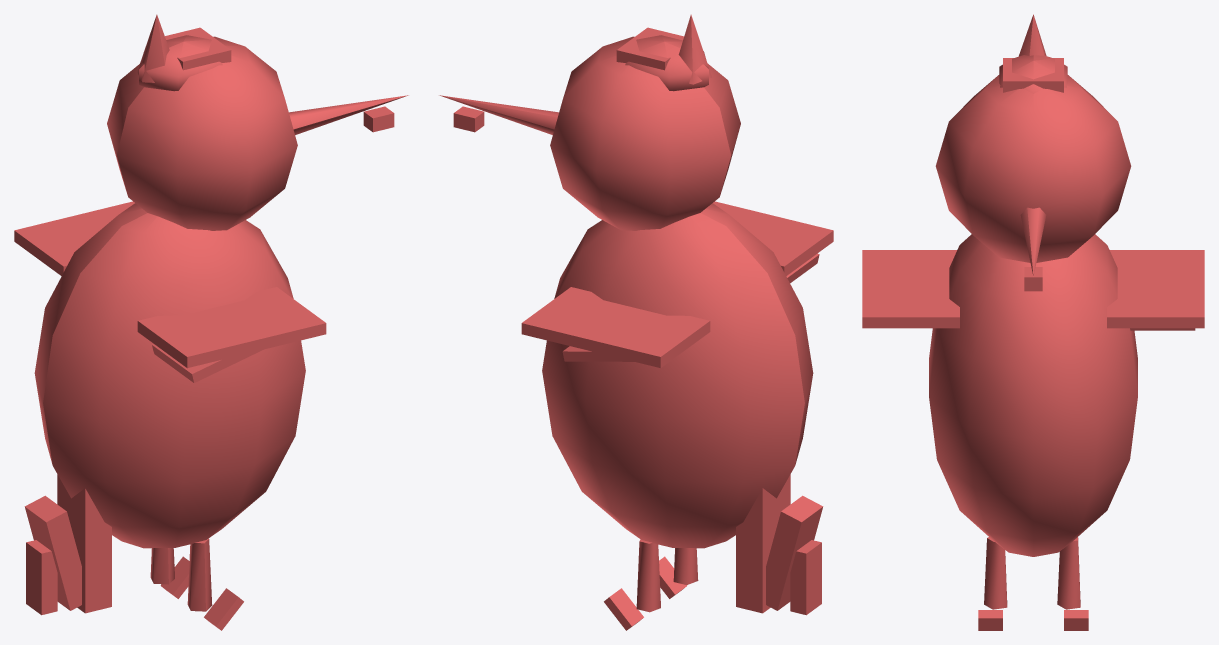
Rendered from woodpecker.glb.
3 renders of one model, left to right at view 1: azimuth 30°, elevation 25°; view 2: azimuth 150°, elevation 25°; view 3: azimuth 270°, elevation 25°, orthographic.
Visible parts, largest first — view 1: Bird; view 2: Bird; view 3: Bird.
Part boxes in pixels (x1=…): Bird: x1=14, y1=14, x2=408, y2=630; Bird: x1=439, y1=14, x2=833, y2=630; Bird: x1=862, y1=14, x2=1204, y2=630.
Size of the model in its own units: 0.6496 by 1 by 0.5178.
